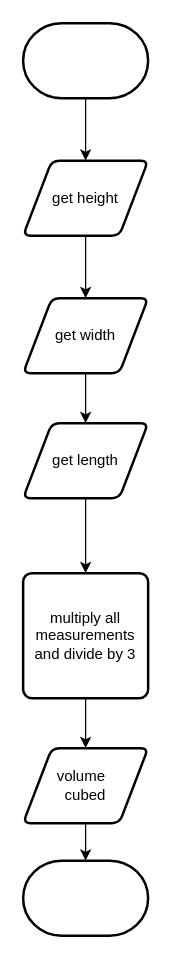
Image size: 170x958. Some labels were removed from this diagram. Each missing label, with the box of its shape:
Start: (21, 21, 149, 99)
Stop: (21, 859, 149, 936)
